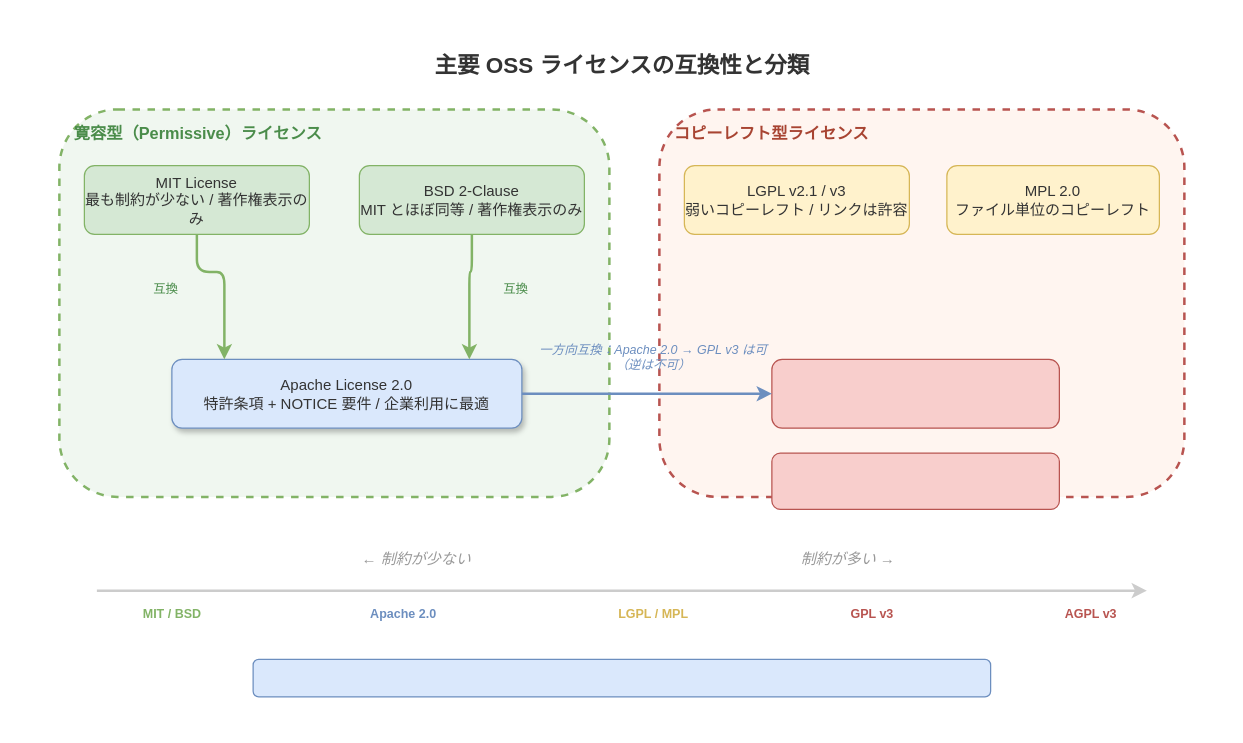
This 1243x743 diagram has some shape labels left out. The centre of each missing label's shape, as x and y in pixels:
"AGPL v3 ネットワーク経由の利用にも適用" belongs at point (915, 480).
"Apache 2.0 が企業で好まれる理由: 明示的な特許付与 + ソースコード公開義務なし" belongs at point (621, 677).
"GPL v3 強いコピーレフト / 派生物もGPLで公開" belongs at point (915, 393).
